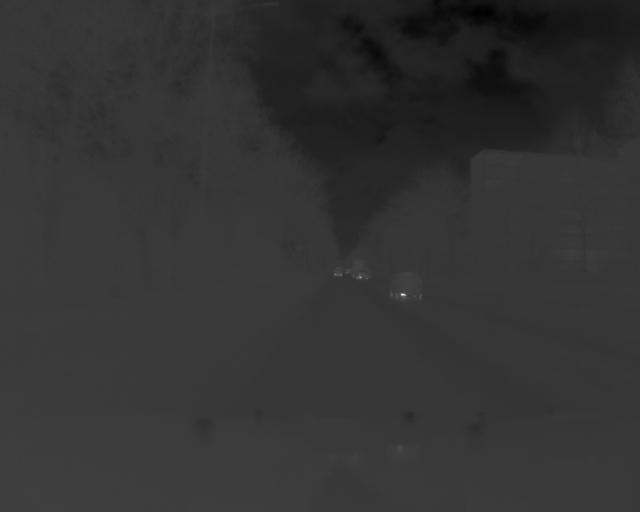car: (388, 267, 425, 302), (333, 267, 342, 278)
